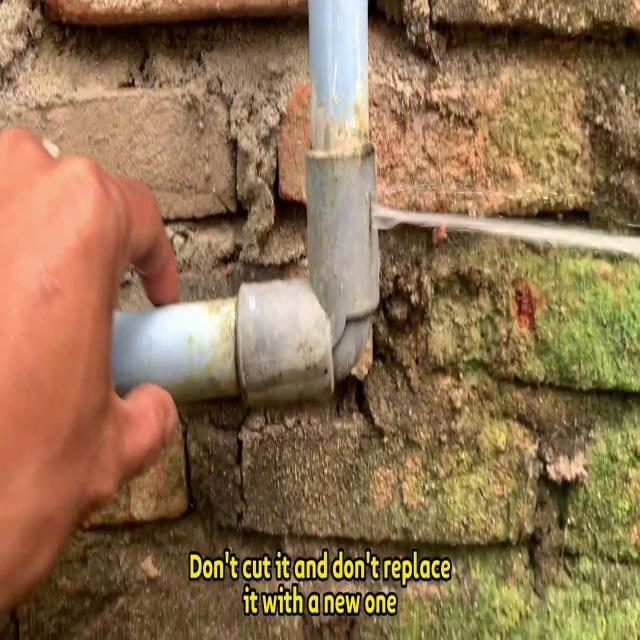leak: (370, 199, 640, 259)
